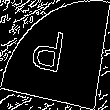P_S: (35, 27, 75, 83)
